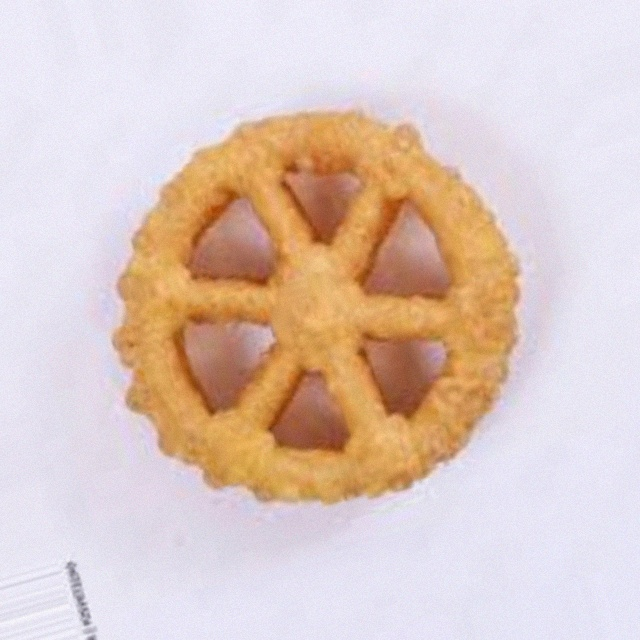Kokis: (72, 76, 568, 564)
